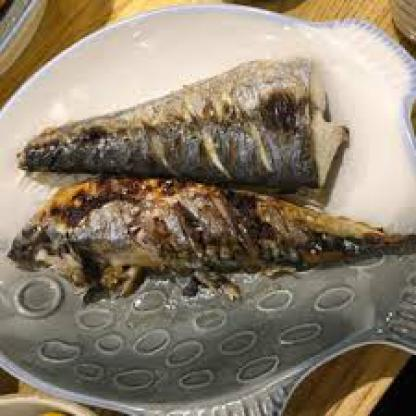grilled mackerel: (11, 181, 414, 276), (20, 61, 342, 179)
